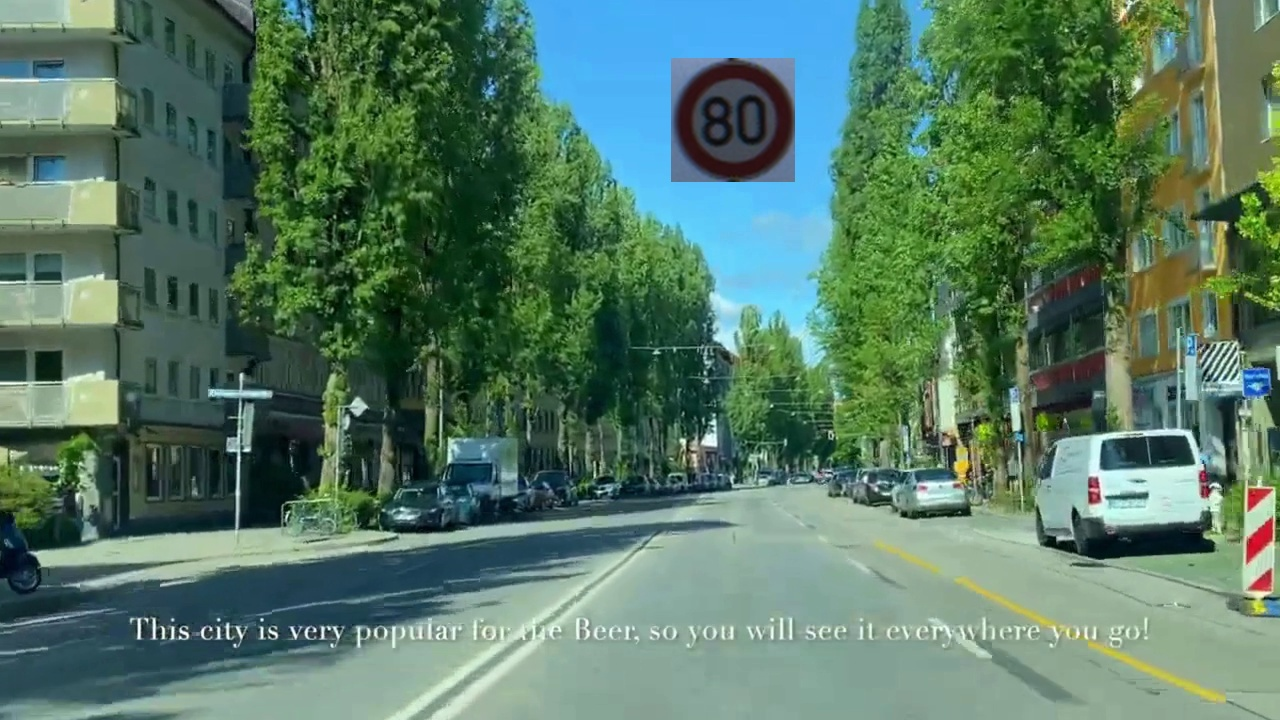Speed 80: (671, 58, 795, 182)
